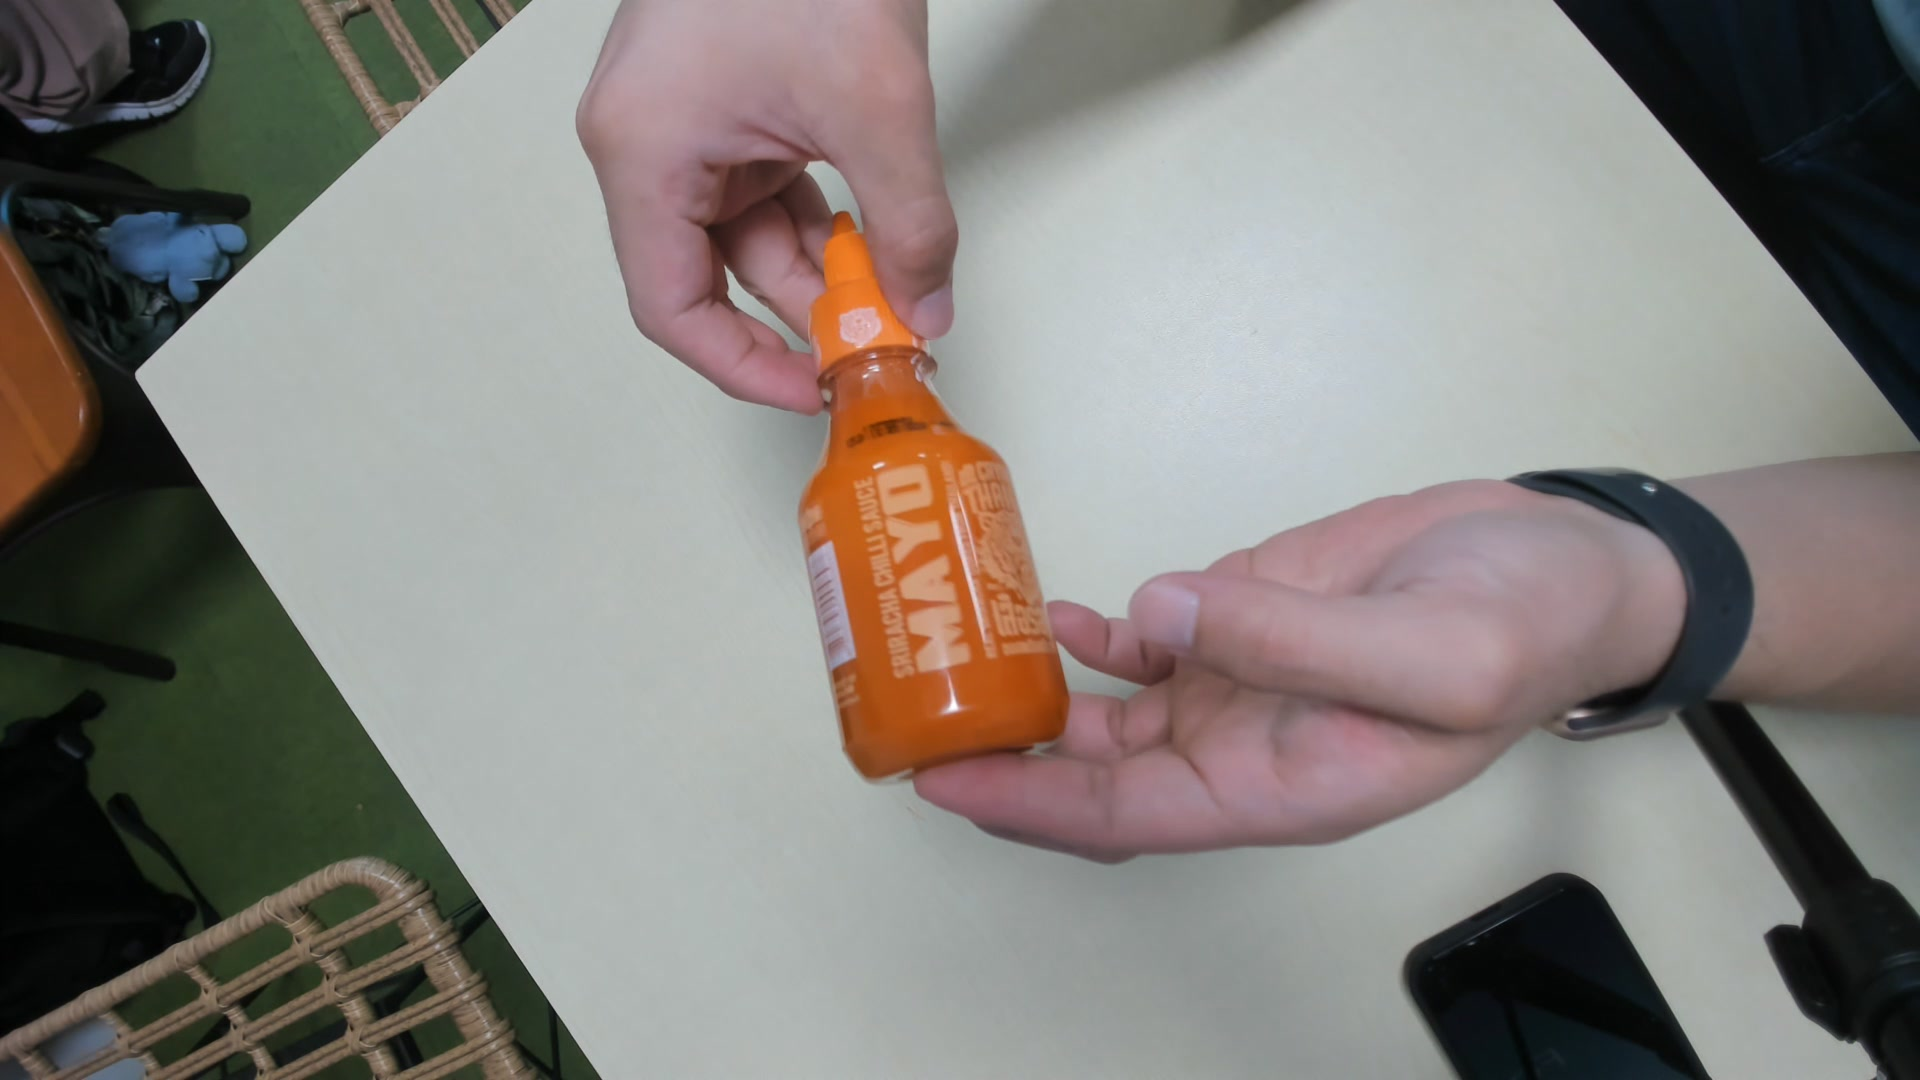OtherSauceDressing_200-299g_NonHalal_NonHealthy: (796, 214, 1072, 793)
